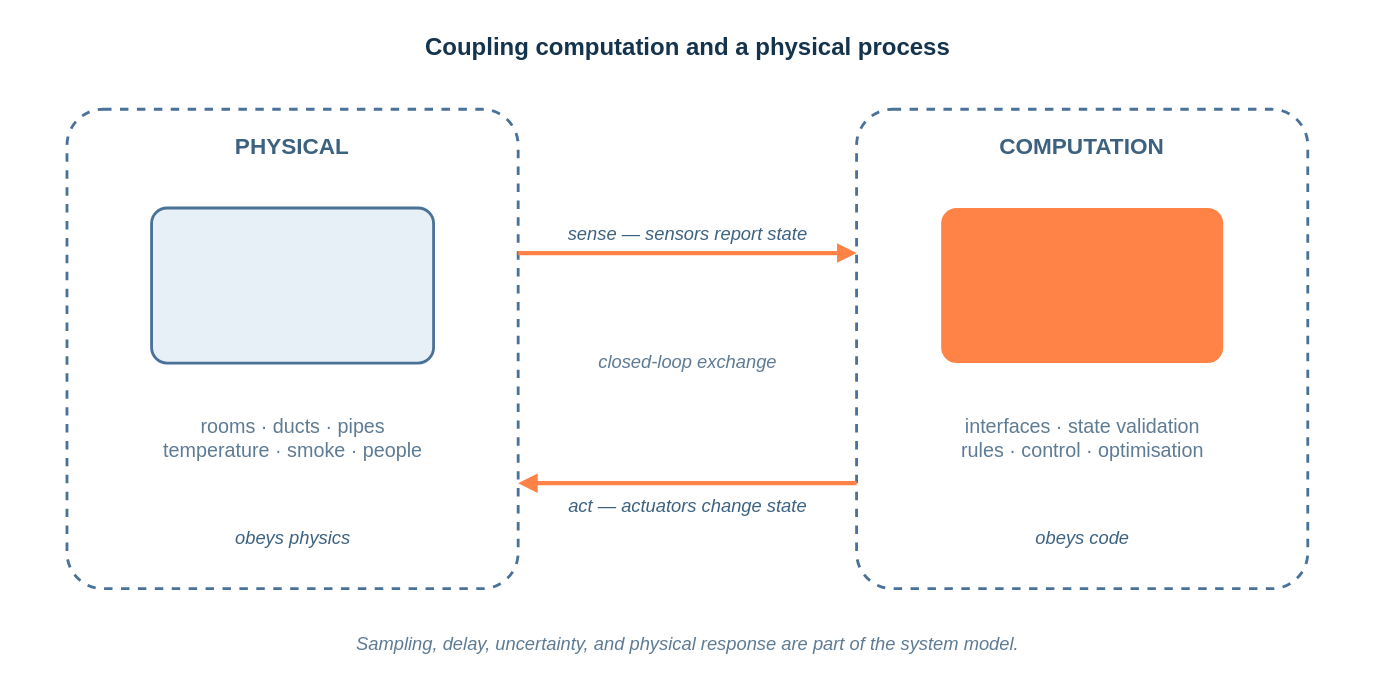
This 1373x681 diagram has some shape labels left out. The shapes that lost their labels are listed below. From the top down, each one's centre as x and y in pixels, then its label:
point 291,285: Building
point 1081,284: Controller
